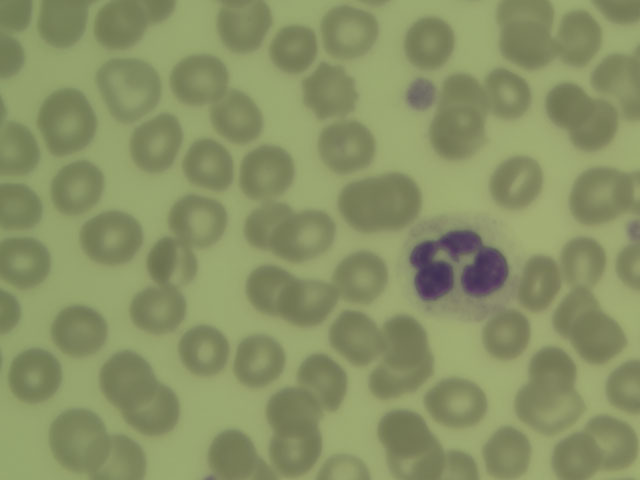Platelets: (406, 78, 437, 113)
RBC: (92, 429, 150, 480), (203, 429, 261, 480), (544, 429, 603, 479), (569, 169, 626, 220), (562, 102, 619, 153), (538, 78, 595, 129), (373, 405, 430, 456), (583, 418, 640, 469), (522, 386, 579, 437), (522, 345, 579, 396), (571, 313, 628, 364), (547, 285, 604, 336), (556, 236, 613, 287), (511, 253, 568, 304), (82, 215, 140, 265), (317, 119, 375, 169), (301, 68, 359, 118), (399, 16, 457, 66), (323, 7, 381, 57), (241, 200, 299, 250), (277, 210, 335, 260), (333, 250, 391, 300), (240, 261, 298, 311), (226, 335, 284, 385), (173, 323, 231, 373), (125, 283, 183, 333), (142, 238, 200, 288), (169, 193, 227, 243), (242, 144, 300, 194), (176, 139, 234, 189), (210, 92, 268, 142), (127, 116, 185, 166), (170, 55, 228, 105), (100, 64, 158, 114), (36, 94, 94, 144), (49, 413, 107, 463), (127, 382, 185, 432), (100, 351, 158, 401), (6, 351, 64, 401), (51, 306, 109, 356), (491, 156, 549, 206), (478, 311, 536, 361), (428, 375, 486, 425), (371, 350, 429, 400), (374, 312, 432, 362), (325, 312, 383, 362), (266, 423, 324, 473), (294, 353, 352, 403), (266, 385, 324, 435), (435, 69, 493, 119), (483, 67, 541, 117), (429, 110, 487, 160), (481, 429, 538, 479), (211, 1, 269, 50), (34, 1, 92, 50), (92, 1, 150, 50), (1, 235, 57, 285), (280, 273, 338, 321), (50, 162, 110, 208), (597, 47, 640, 108), (555, 13, 600, 62), (386, 442, 442, 479), (376, 178, 423, 222), (316, 447, 378, 480), (334, 181, 378, 226), (274, 25, 316, 71), (1, 122, 40, 171), (1, 180, 41, 227), (605, 361, 640, 410), (1, 27, 26, 84), (615, 244, 640, 298), (433, 451, 479, 480), (592, 1, 640, 25)
WBC: (411, 219, 515, 317)
